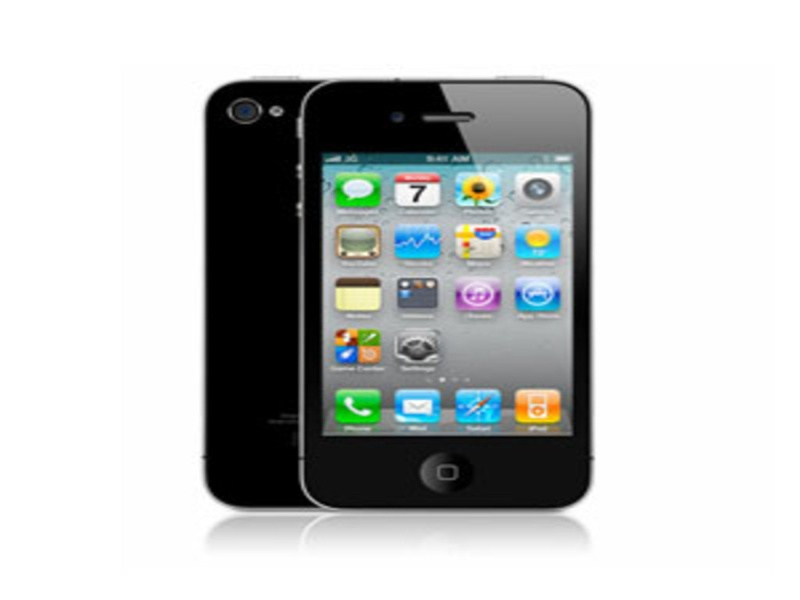cellphone: (291, 71, 612, 517)
